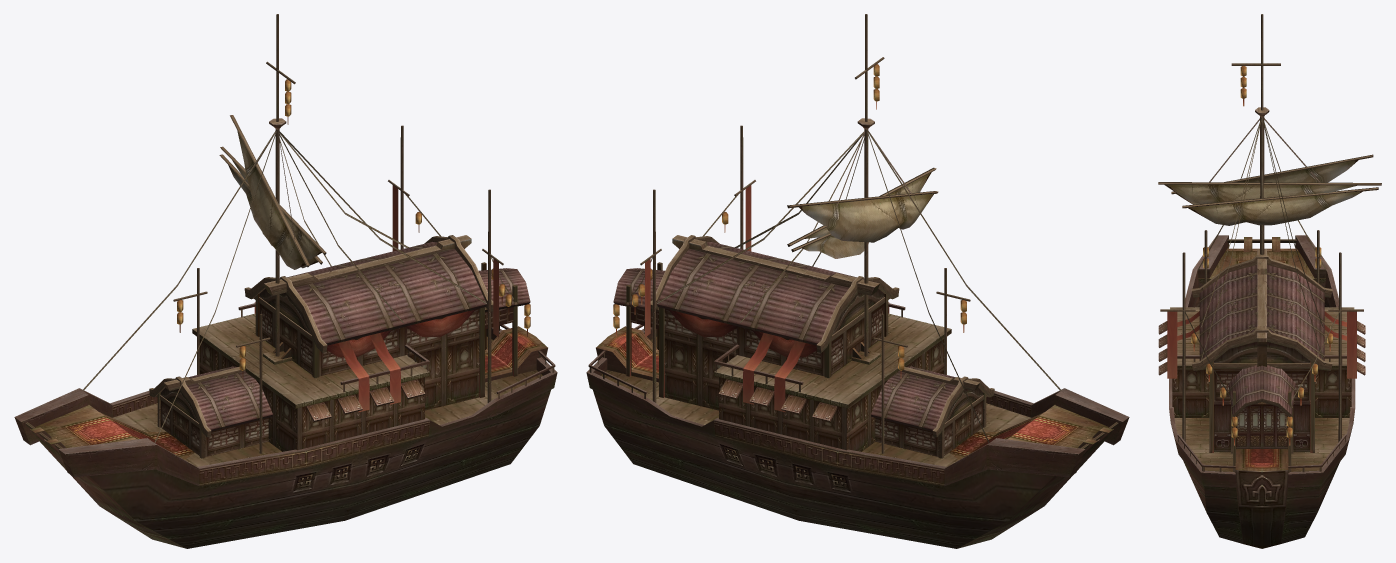
The model's file is ZYthi_gg_yuanjingchuan.FBX.
3 views of the same model, side by side, from view 1: azimuth 30°, elevation 25°; view 2: azimuth 150°, elevation 25°; view 3: azimuth 270°, elevation 25° (orthographic). The views are drawn at different scales.
Visible parts, largest first — view 1: ZYthi_gg_yuanjingchuan; view 2: ZYthi_gg_yuanjingchuan; view 3: ZYthi_gg_yuanjingchuan.
Boxes of the visible parts, bbox=[...] form: ZYthi_gg_yuanjingchuan: bbox=[14, 14, 557, 548]; ZYthi_gg_yuanjingchuan: bbox=[586, 14, 1129, 548]; ZYthi_gg_yuanjingchuan: bbox=[1158, 14, 1381, 548].
Bounding box in the file's own units: 2515 × 2408 × 1099.
